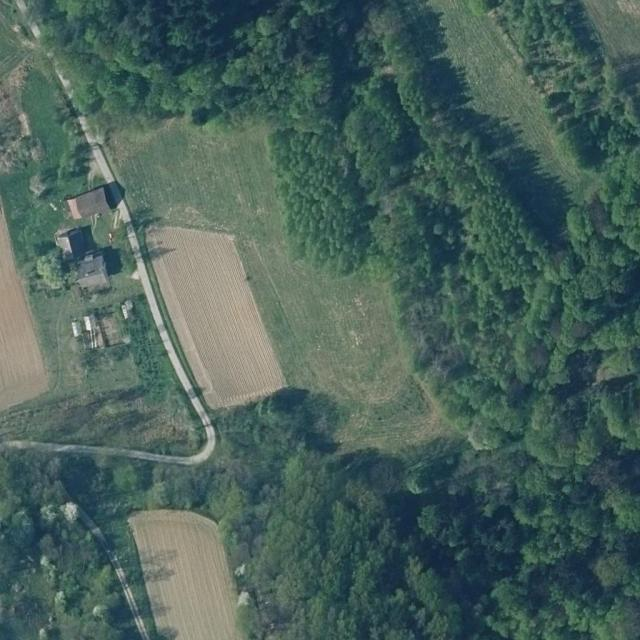agricultural_land: (86, 55, 479, 509), (139, 202, 287, 419), (417, 0, 581, 195), (127, 493, 248, 640), (1, 205, 48, 411), (1, 14, 25, 79)
building: (53, 222, 97, 264), (68, 312, 110, 355), (63, 186, 110, 222), (73, 252, 110, 295), (120, 299, 136, 320)
greenland: (8, 55, 98, 203), (118, 293, 172, 390), (0, 55, 44, 173)
unmetalled_road: (117, 197, 217, 467), (0, 425, 218, 479), (76, 504, 157, 640), (74, 112, 117, 185), (52, 62, 77, 100), (28, 22, 44, 38)
